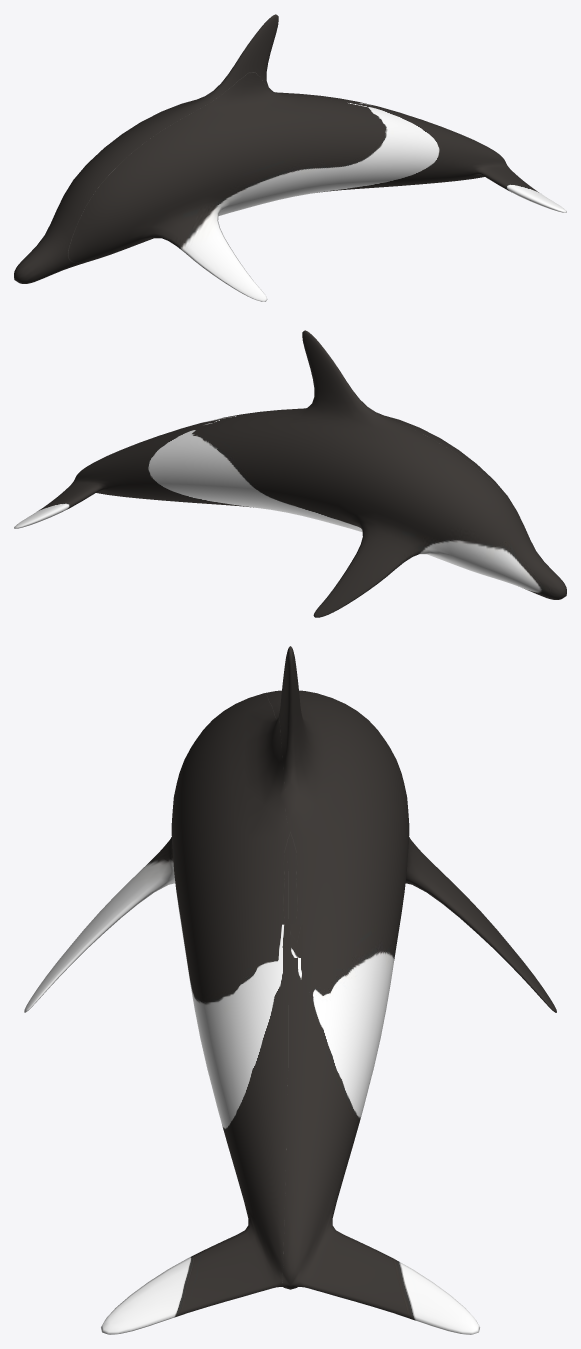
The model's file is Dolphin.obj.
3 views of the same model, one above another, from view 1: azimuth 30°, elevation 25°; view 2: azimuth 150°, elevation 25°; view 3: azimuth 270°, elevation 25° (orthographic). The views are drawn at different scales.
Parts seen in each view (by area): view 1: Cylinder01; view 2: Cylinder01; view 3: Cylinder01.
Boxes of the visible parts, x1=… form: Cylinder01: x1=14, y1=14, x2=566, y2=301; Cylinder01: x1=14, y1=330, x2=566, y2=617; Cylinder01: x1=24, y1=646, x2=556, y2=1334.
Bounding box in the file's own units: 0.5975 × 0.2523 × 0.272.
